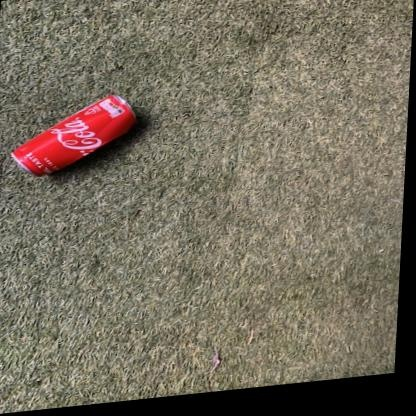trash: (11, 96, 135, 175)
